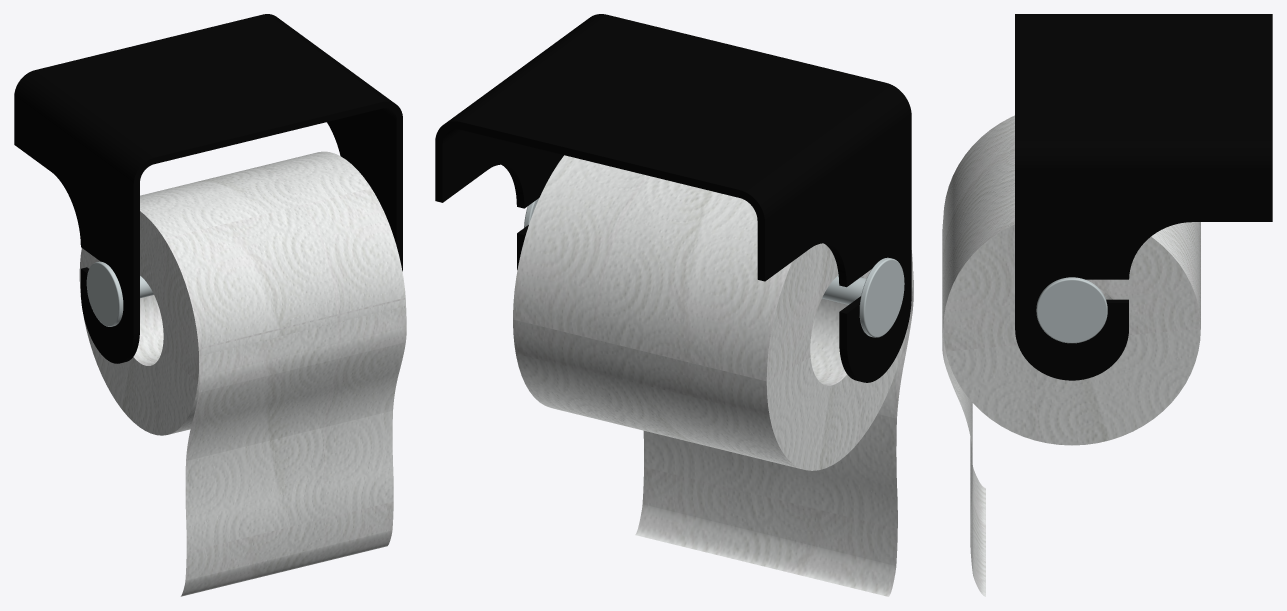
Rendered from Decor Walther WC paper.fbx.
3 renders of one model, left to right at view 1: azimuth 30°, elevation 25°; view 2: azimuth 150°, elevation 25°; view 3: azimuth 270°, elevation 25°, orthographic. The views are drawn at different scales.
Visible parts, largest first — view 1: Solid_Subtraction, Polygon, Polygon_10, Polygon_11, Polygon_5, Polygon_9, Polygon_8, Polygon_6, Polygon_7, Polygon_12, Sweep, Polygon_3 (+1 smaller); view 2: Solid_Subtraction, Polygon, Polygon_11, Polygon_5, Polygon_12, Polygon_13, Sweep, Polygon_10, Polygon_3, Polygon_9; view 3: Solid_Subtraction, Polygon_5, Polygon, Sweep, Polygon_13, Polygon_12.
Part boxes in pixels (left/top/right/bottom): Solid_Subtraction: left=14, top=14, right=402, bottom=363; Polygon: left=140, top=151, right=405, bottom=434; Polygon_10: left=185, top=410, right=393, bottom=521; Polygon_11: left=185, top=471, right=393, bottom=580; Polygon_5: left=79, top=211, right=198, bottom=435; Polygon_9: left=186, top=373, right=398, bottom=460; Polygon_8: left=192, top=342, right=405, bottom=423; Polygon_6: left=198, top=297, right=406, bottom=376; Polygon_7: left=199, top=326, right=406, bottom=392; Polygon_12: left=183, top=530, right=392, bottom=590; Sweep: left=86, top=261, right=153, bottom=326; Polygon_3: left=133, top=295, right=163, bottom=365; Solid_Subtraction: left=435, top=14, right=911, bottom=382; Polygon: left=513, top=155, right=803, bottom=469; Polygon_11: left=642, top=431, right=897, bottom=565; Polygon_5: left=766, top=243, right=913, bottom=470; Polygon_12: left=640, top=504, right=896, bottom=582; Polygon_13: left=635, top=521, right=893, bottom=596; Sweep: left=524, top=198, right=904, bottom=337; Polygon_10: left=809, top=414, right=897, bottom=491; Polygon_3: left=810, top=276, right=863, bottom=385; Polygon_9: left=877, top=361, right=904, bottom=418; Solid_Subtraction: left=1015, top=14, right=1272, bottom=380; Polygon_5: left=943, top=224, right=1200, bottom=445; Polygon: left=943, top=115, right=1200, bottom=327; Sweep: left=1036, top=277, right=1107, bottom=343; Polygon_13: left=978, top=479, right=985, bottom=596; Polygon_12: left=973, top=467, right=977, bottom=587.
Size of what is drawn, in the model's own units: 134 by 199 by 128.
3 materials, 1 textured.
